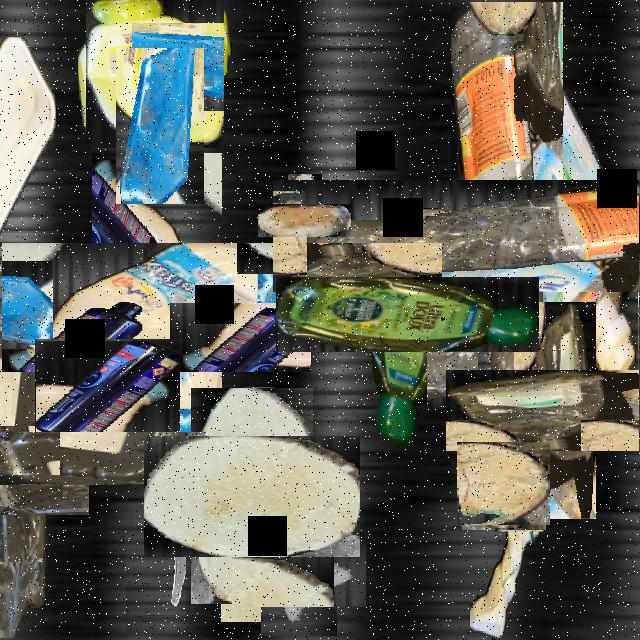glass: (116, 48, 204, 204), (246, 516, 352, 622), (221, 512, 283, 622), (0, 449, 66, 538)
metal: (126, 526, 186, 633)
plastic: (361, 91, 640, 381), (478, 71, 638, 377), (47, 198, 267, 417), (442, 211, 640, 424), (323, 230, 493, 399), (0, 355, 129, 561), (480, 336, 630, 485), (82, 0, 228, 144), (43, 331, 171, 458), (0, 38, 57, 236), (470, 489, 538, 638)
wood: (168, 411, 336, 581), (460, 439, 548, 528), (273, 189, 337, 252)
